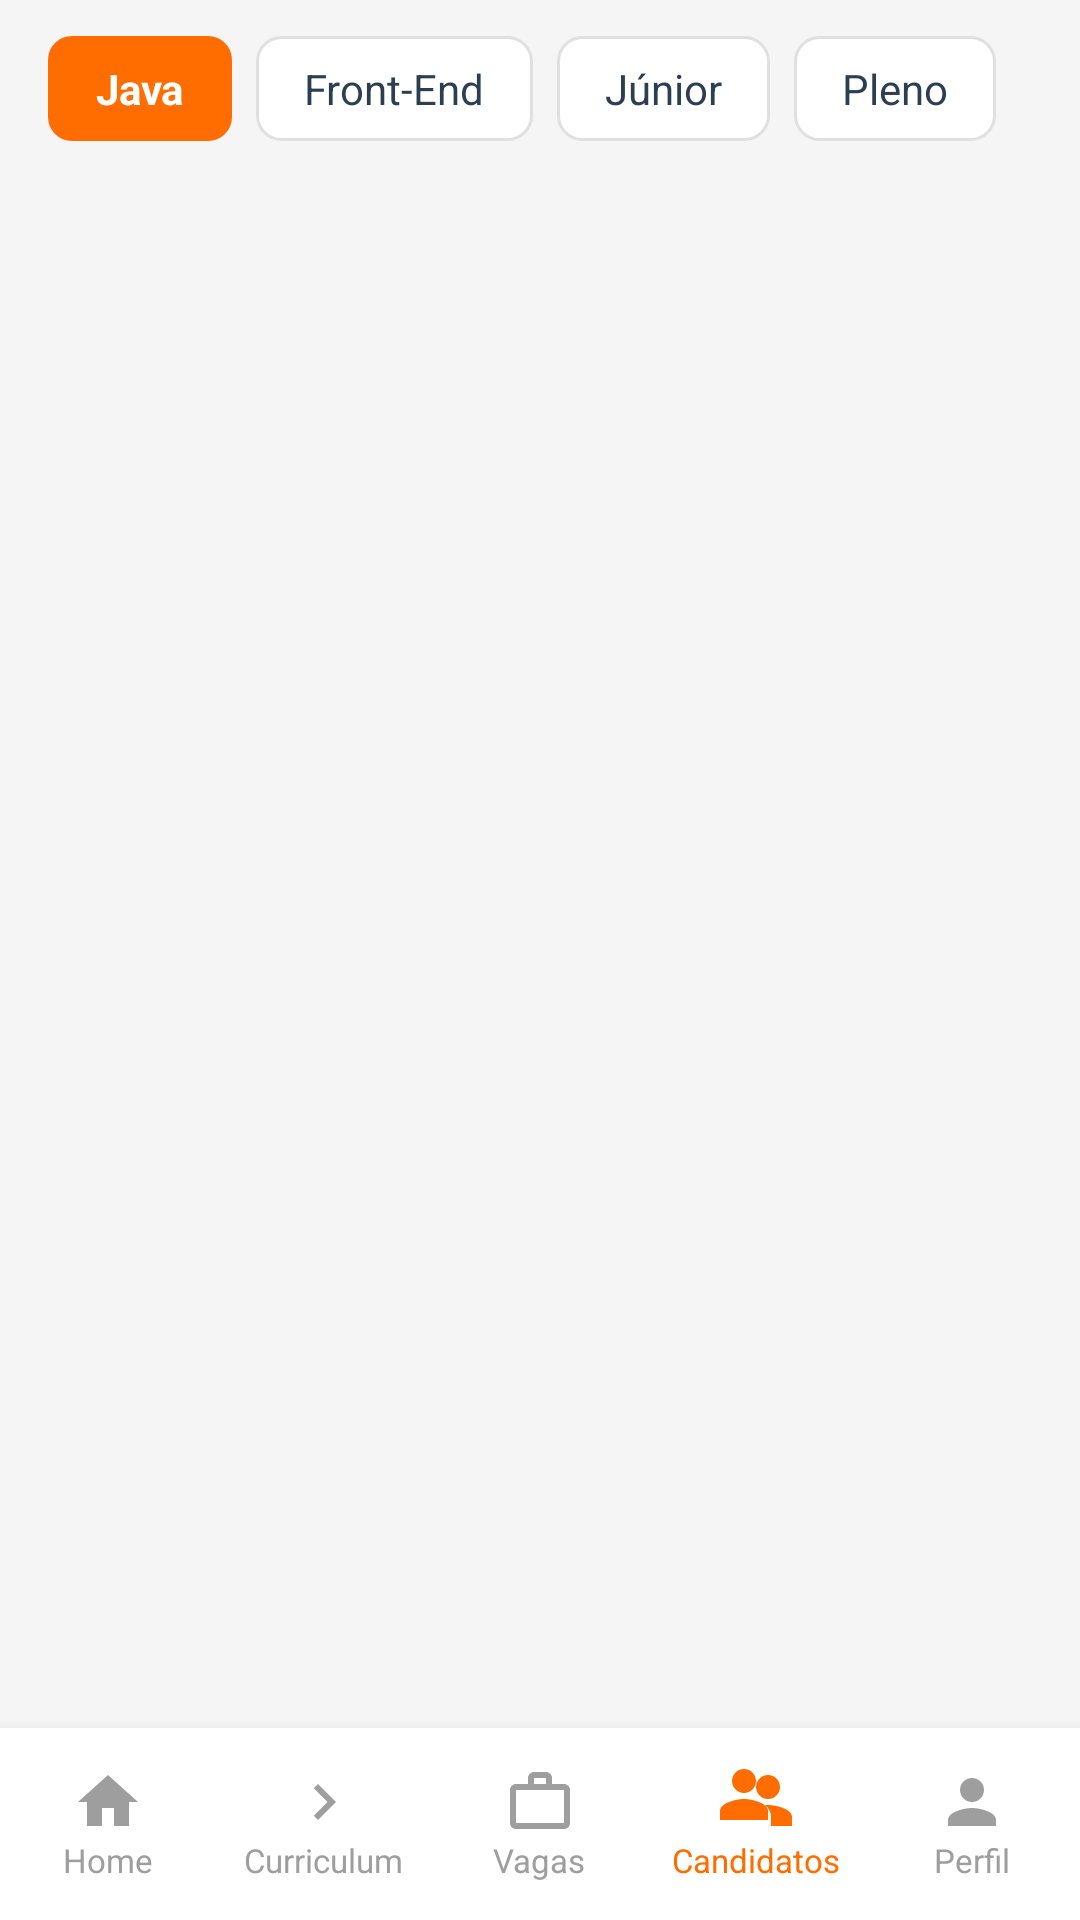

Icon bounding boxes for this 1080 x 1920 phone screenshot, format (x1,y1,x2,y2):
chevron right: (314,1784,336,1820)
